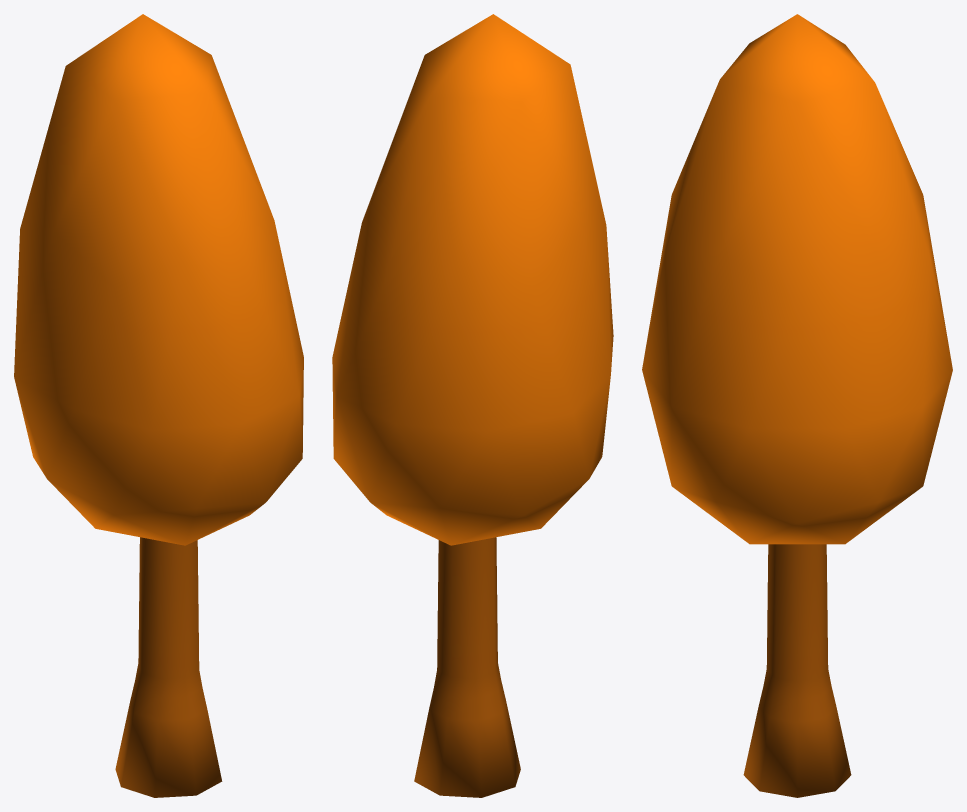
File: Tree_05.1.fbx
3 renders of one model, left to right at view 1: azimuth 30°, elevation 25°; view 2: azimuth 150°, elevation 25°; view 3: azimuth 270°, elevation 25°, orthographic. The views are drawn at different scales.
Visible parts, largest first — view 1: Tree_05.1; view 2: Tree_05.1; view 3: Tree_05.1.
Part boxes in pixels (left/top/right/bottom): Tree_05.1: left=14, top=14, right=303, bottom=797; Tree_05.1: left=332, top=14, right=613, bottom=797; Tree_05.1: left=642, top=14, right=952, bottom=797.
Bounding box in the file's own units: 118 × 135 × 359.
